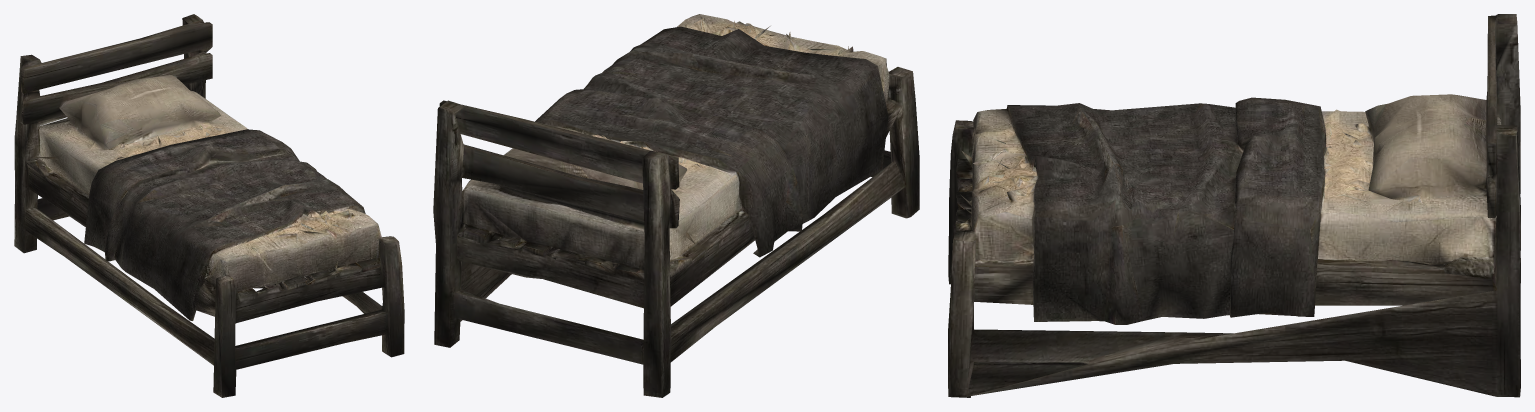
Rendered from hutbed.glb.
3 views of the same model, side by side, from view 1: azimuth 30°, elevation 25°; view 2: azimuth 150°, elevation 25°; view 3: azimuth 270°, elevation 25° (orthographic). The views are drawn at different scales.
Visible parts, largest first — view 1: Mesh_0; view 2: Mesh_0; view 3: Mesh_0.
Boxes of the visible parts, left/top/right/bottom form: Mesh_0: left=14, top=14, right=404, bottom=397; Mesh_0: left=433, top=14, right=919, bottom=397; Mesh_0: left=948, top=14, right=1520, bottom=397.
Size of the model in its own units: 1.09 by 0.9644 by 1.89.
Materials: 1 (1 with a texture image).
